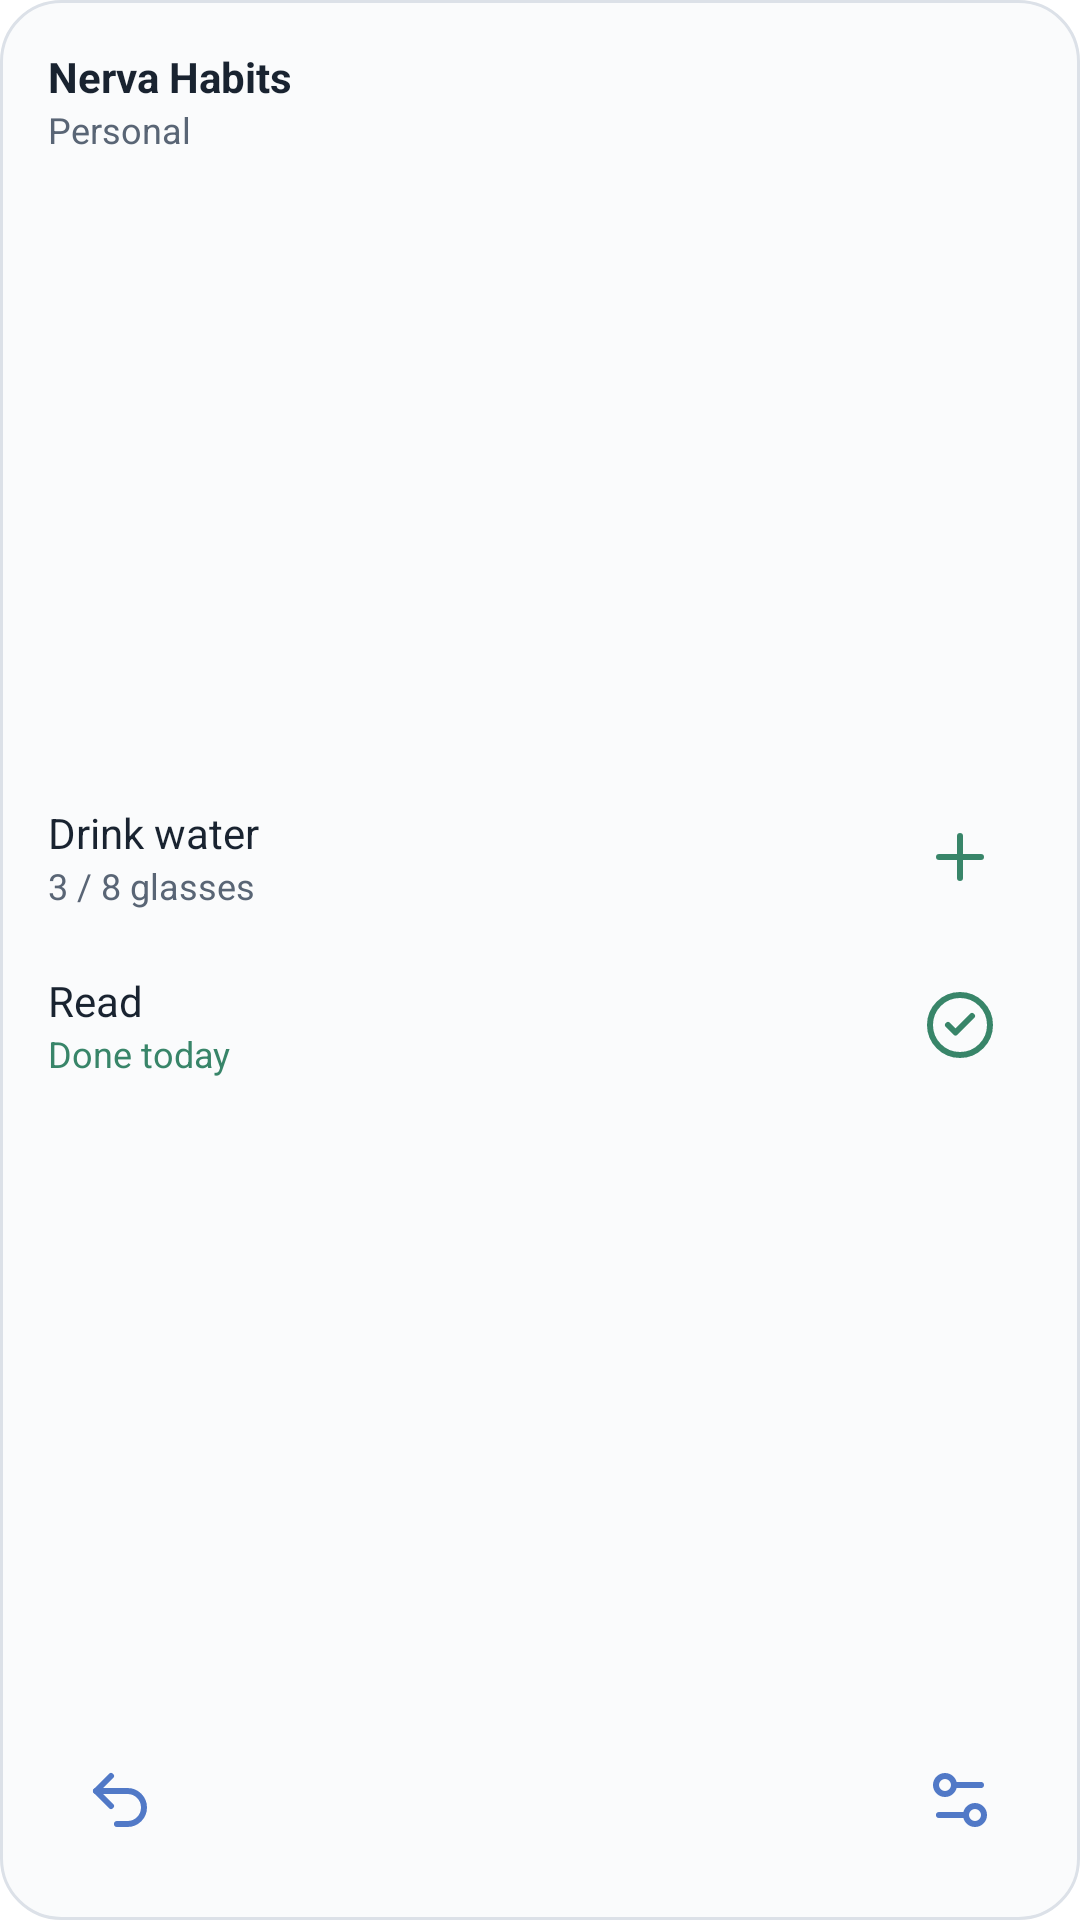

Point at icon controls on the screen. Image size 1080w x 1920h, points as (x=x, y=y).
Configure widget: (x=960, y=1800)
Log water: (x=960, y=857)
Undo habit log: (x=120, y=1800)
